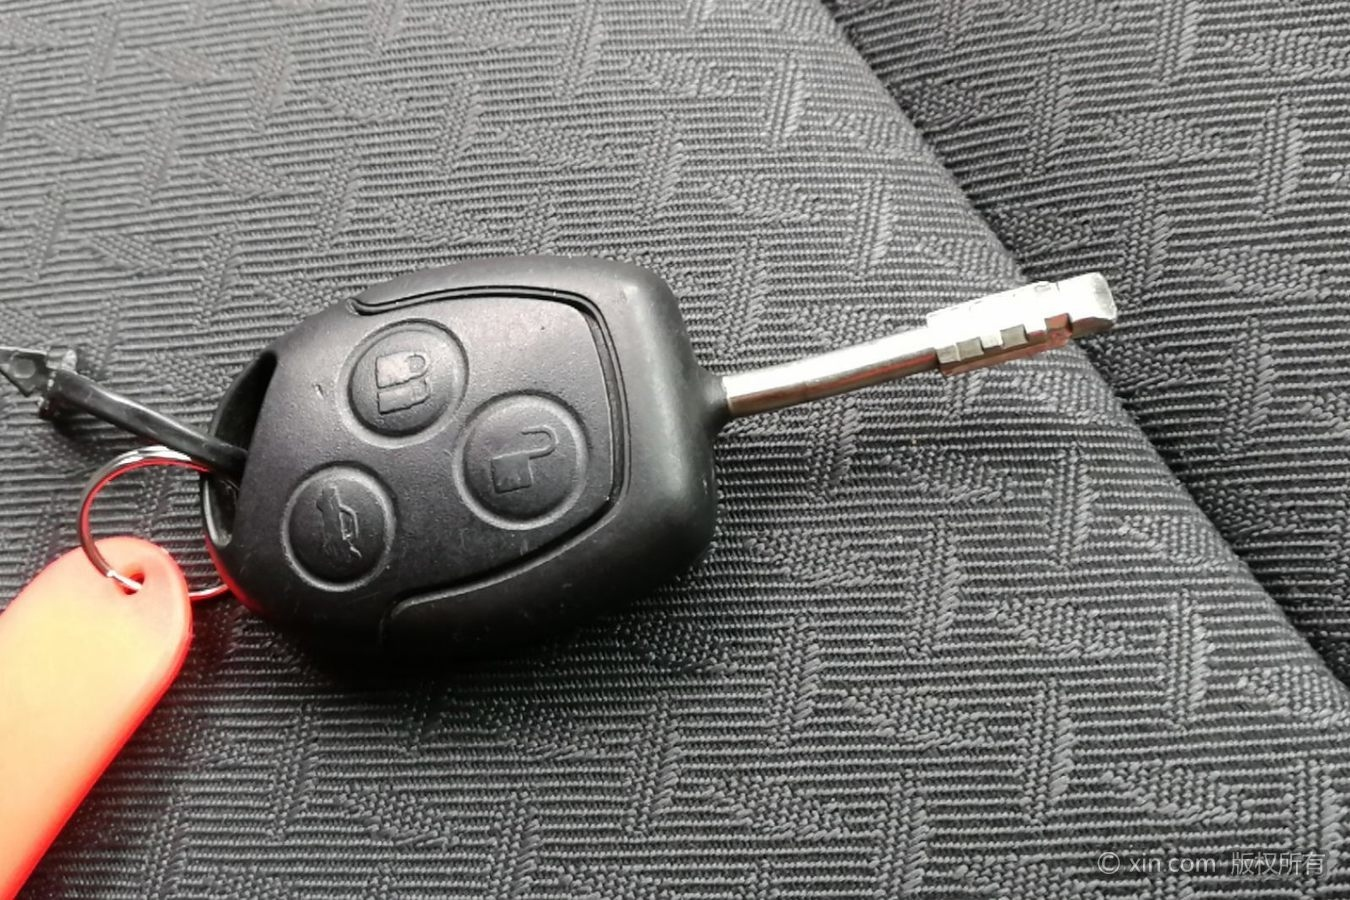key: (192, 244, 1128, 681)
